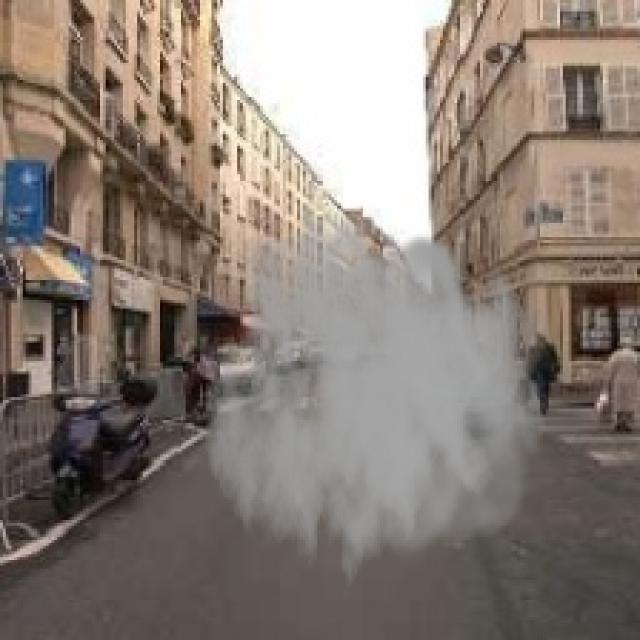Smoke: (203, 200, 546, 606)
